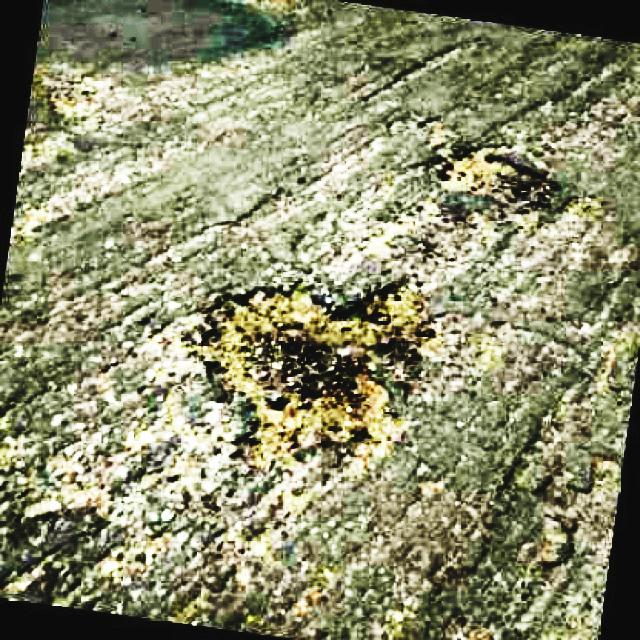pothole: (200, 272, 437, 471), (438, 145, 554, 212)
